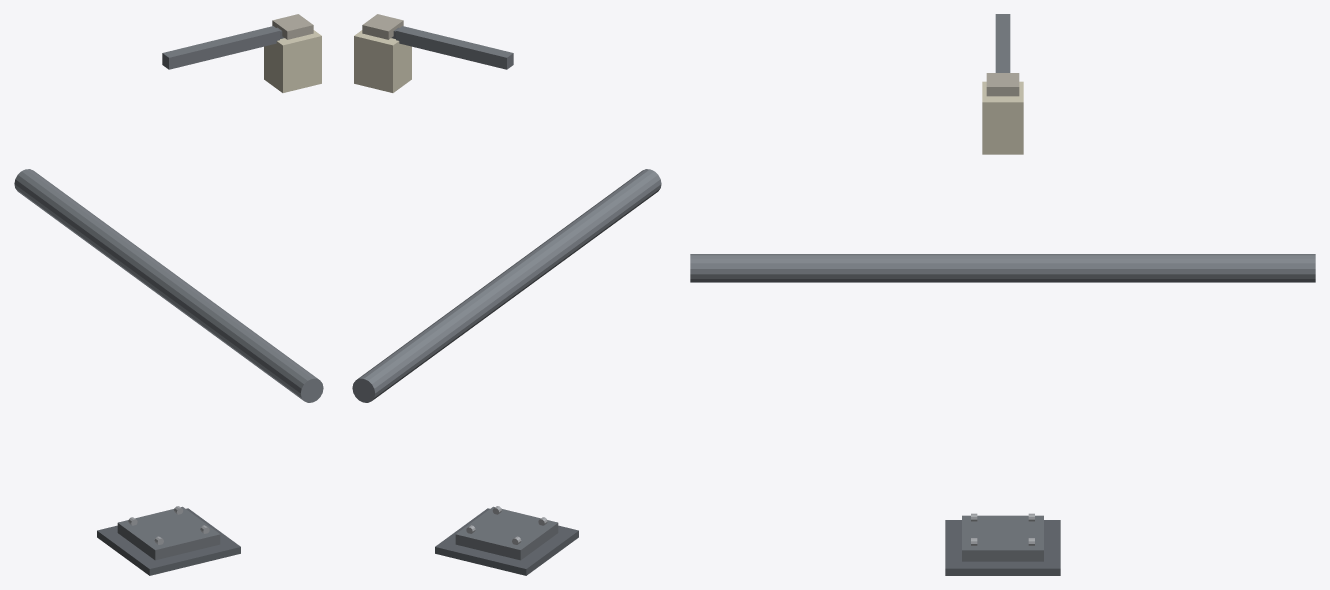
The model's file is street_lamp.glb.
3 renders of one model, left to right at view 1: azimuth 30°, elevation 25°; view 2: azimuth 150°, elevation 25°; view 3: azimuth 270°, elevation 25°, orthographic. The views are drawn at different scales.
Visible parts, largest first — view 1: world; view 2: world; view 3: world.
Boxes of the visible parts, x1,y1,x2,y2 form: world: (14, 14, 323, 575); world: (352, 14, 661, 575); world: (690, 14, 1315, 575).
Bounding box in the file's own units: 0.58 × 1.44 × 1.52.
